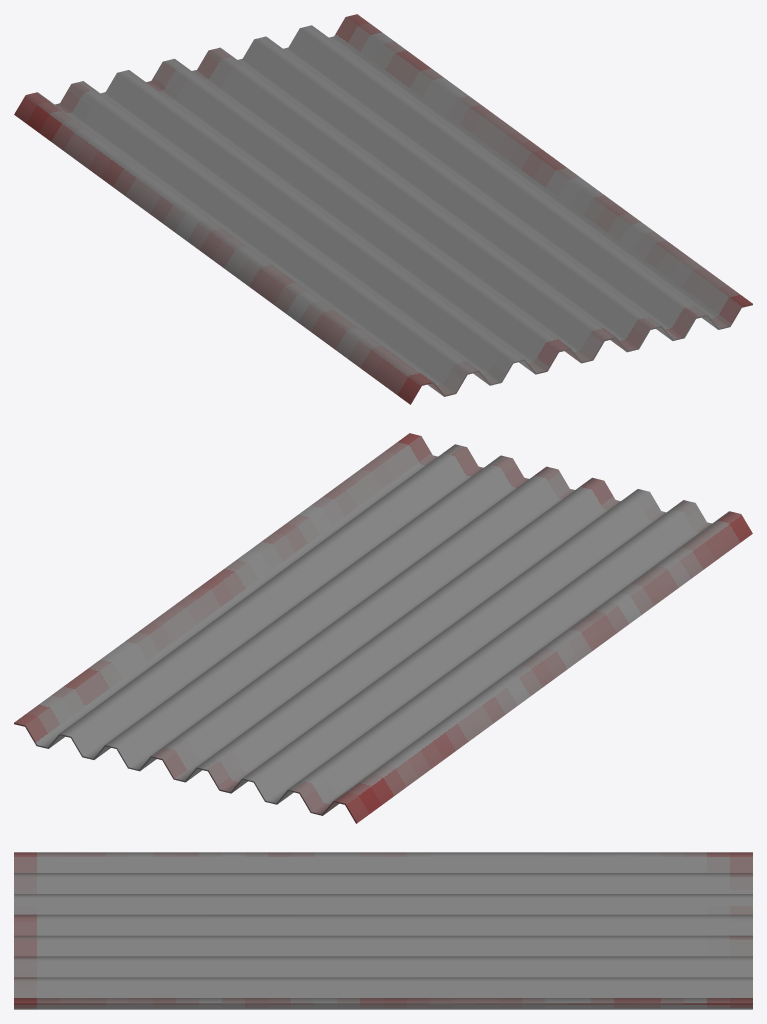
The model's file is sheetmetal.fbx.
3 renders of one model, top to bottom at view 1: azimuth 30°, elevation 25°; view 2: azimuth 150°, elevation 25°; view 3: azimuth 270°, elevation 25°, orthographic. The views are drawn at different scales.
Visible parts, largest first — view 1: Plane001; view 2: Plane001; view 3: Plane001.
Part boxes in pixels (<box>): Plane001: <box>14,14,752,404</box>; Plane001: <box>14,433,752,823</box>; Plane001: <box>14,852,752,1009</box>.
Bounding box in the file's own units: 5.01 × 0.2495 × 10.
1 material, 1 textured.
